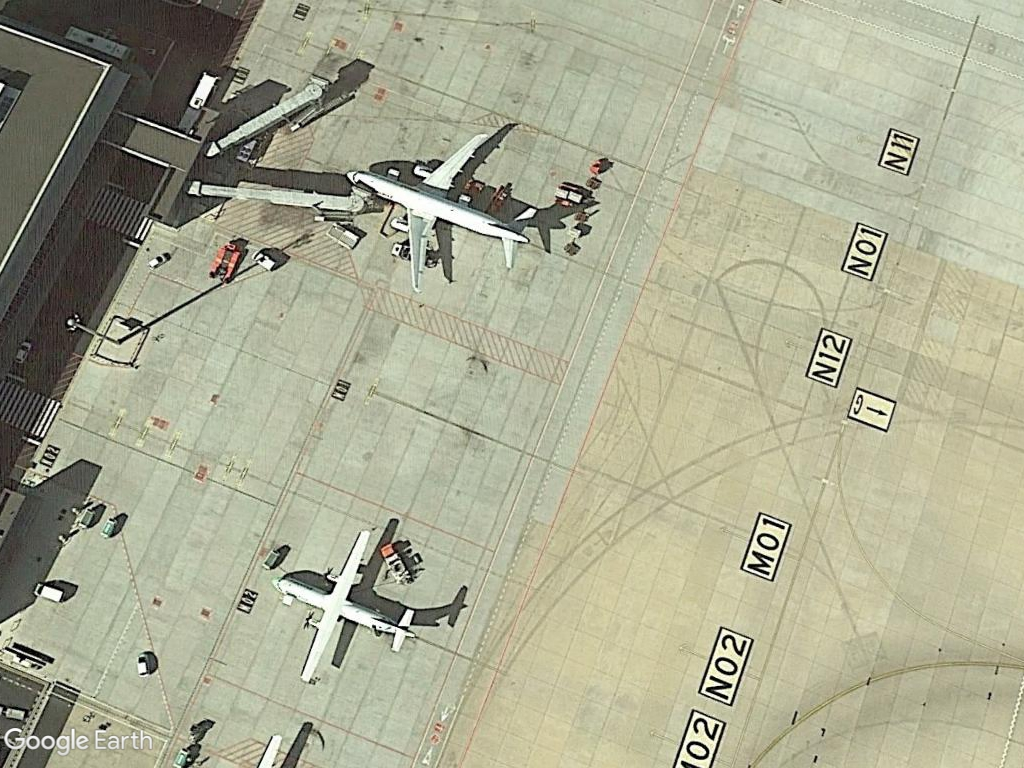airliner: (344, 113, 546, 293)
car: (9, 338, 36, 370)
propeller: (271, 519, 424, 690)
pushbacktruck: (204, 236, 246, 286)
van: (29, 580, 71, 608), (133, 647, 156, 680)
